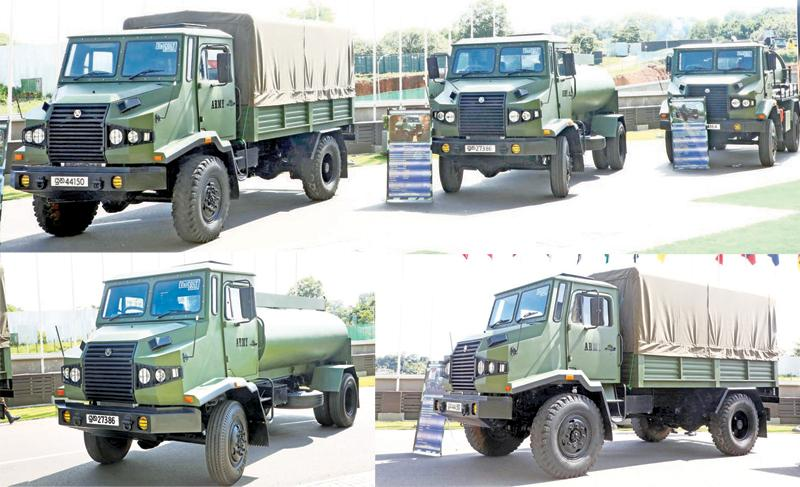truck: (12, 9, 357, 245), (433, 267, 779, 477), (51, 260, 359, 487), (426, 34, 627, 197), (659, 42, 800, 167)
